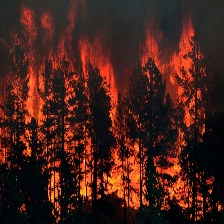fire: (5, 9, 217, 213)
